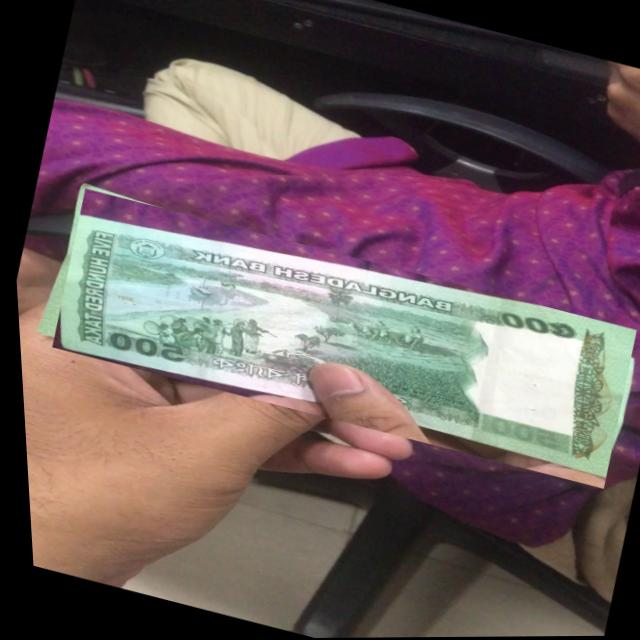Taka: (39, 185, 639, 493)
